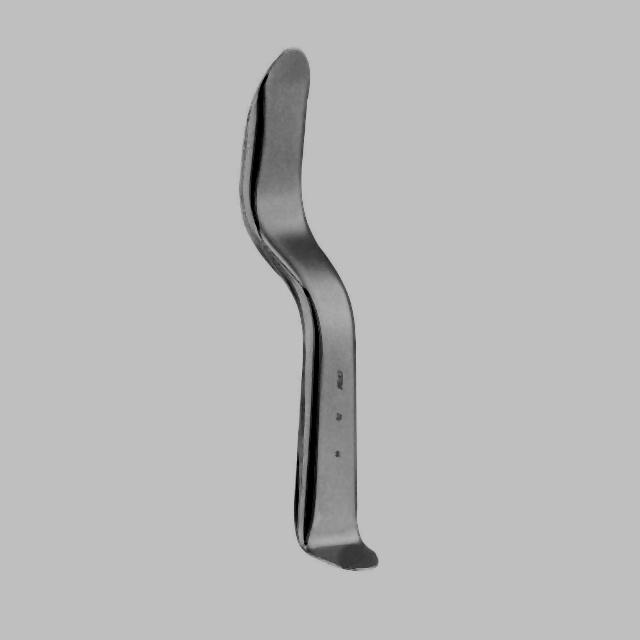separador: (239, 49, 380, 574)
